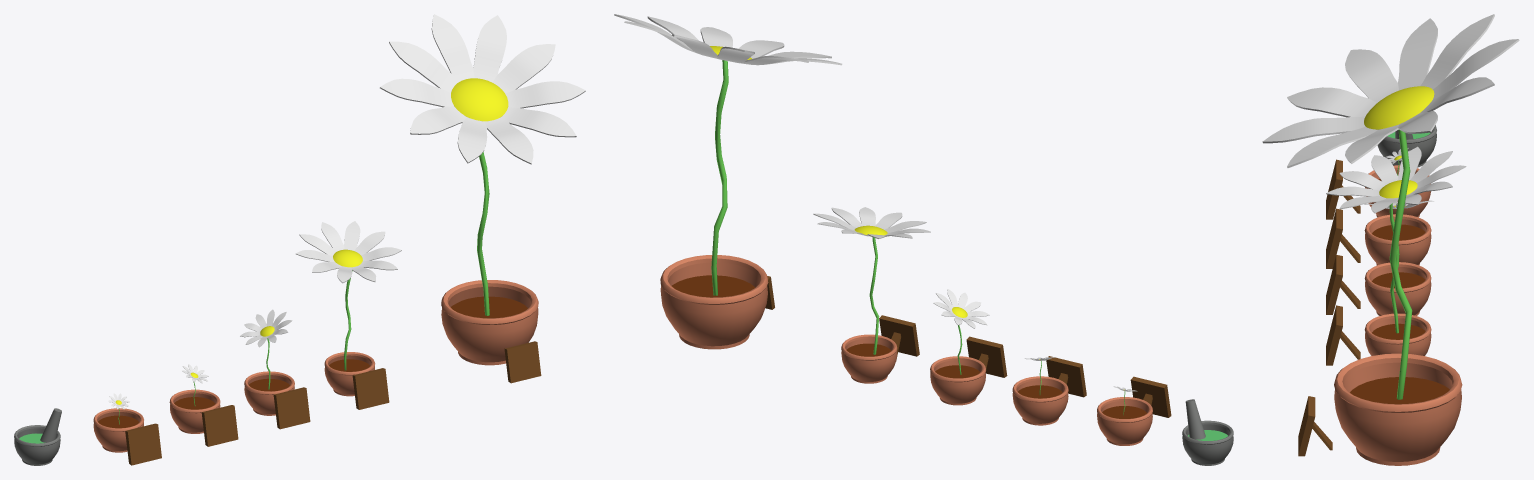
Rendered from Pot.fbx.
3 renders of one model, left to right at view 1: azimuth 30°, elevation 25°; view 2: azimuth 150°, elevation 25°; view 3: azimuth 270°, elevation 25°, orthographic. The views are drawn at different scales.
Parts seen in each view (by area): view 1: Cube.014, Cube.012, Cube.011, Sphere.004, Cube.015, Cube.006, Cube.016, Cube.009, Cube.020, Cube.018, Cube.019, Cube.017 (+5 smaller); view 2: Cube.012, Cube.014, Cube.006, Cube.001, Cube.009, Cube.000, Cube.011, Cube.015, Cube.013, Plane.004, Cube.019, Cube.018 (+3 smaller); view 3: Cube.014, Cube.012, Cube.011, Cube.001, Cube.013, Cube.006, Plane.004, Sphere.004, Cube.000, Cube.015, Cube.020, Cube.019 (+9 smaller).
Boxes of the visible parts, left/top/right/bottom form: Cube.014: left=380, top=14, right=585, bottom=164; Cube.012: left=441, top=280, right=538, bottom=365; Cube.011: left=296, top=221, right=401, bottom=283; Sphere.004: left=451, top=78, right=508, bottom=121; Cube.015: left=14, top=425, right=60, bottom=465; Cube.006: left=169, top=389, right=220, bottom=433; Cube.016: left=125, top=423, right=161, bottom=465; Cube.009: left=93, top=408, right=143, bottom=452; Cube.020: left=504, top=341, right=541, bottom=383; Cube.018: left=273, top=387, right=310, bottom=429; Cube.019: left=352, top=368, right=389, bottom=409; Cube.017: left=201, top=405, right=238, bottom=446; Cube.012: left=660, top=255, right=768, bottom=349; Cube.014: left=614, top=14, right=842, bottom=65; Cube.006: left=1012, top=376, right=1068, bottom=425; Cube.001: left=930, top=356, right=985, bottom=405; Cube.009: left=1097, top=397, right=1152, bottom=445; Cube.000: left=841, top=334, right=897, bottom=383; Cube.011: left=813, top=207, right=930, bottom=238; Cube.015: left=1182, top=420, right=1233, bottom=465; Cube.013: left=711, top=60, right=728, bottom=295; Plane.004: left=671, top=275, right=755, bottom=297; Cube.019: left=879, top=315, right=919, bottom=358; Cube.018: left=966, top=336, right=1007, bottom=377; Cube.014: left=1262, top=14, right=1519, bottom=167; Cube.012: left=1334, top=353, right=1462, bottom=465; Cube.011: left=1326, top=146, right=1466, bottom=213; Cube.001: left=1364, top=262, right=1431, bottom=315; Cube.013: left=1389, top=129, right=1412, bottom=399; Cube.006: left=1364, top=214, right=1431, bottom=265; Plane.004: left=1350, top=377, right=1449, bottom=404; Sphere.004: left=1364, top=86, right=1434, bottom=129; Cube.000: left=1364, top=313, right=1431, bottom=355; Cube.015: left=1377, top=125, right=1436, bottom=167; Cube.020: left=1298, top=396, right=1332, bottom=456; Cube.019: left=1326, top=305, right=1360, bottom=365.
Bounding box in the file's own units: 380 × 205 × 118.
